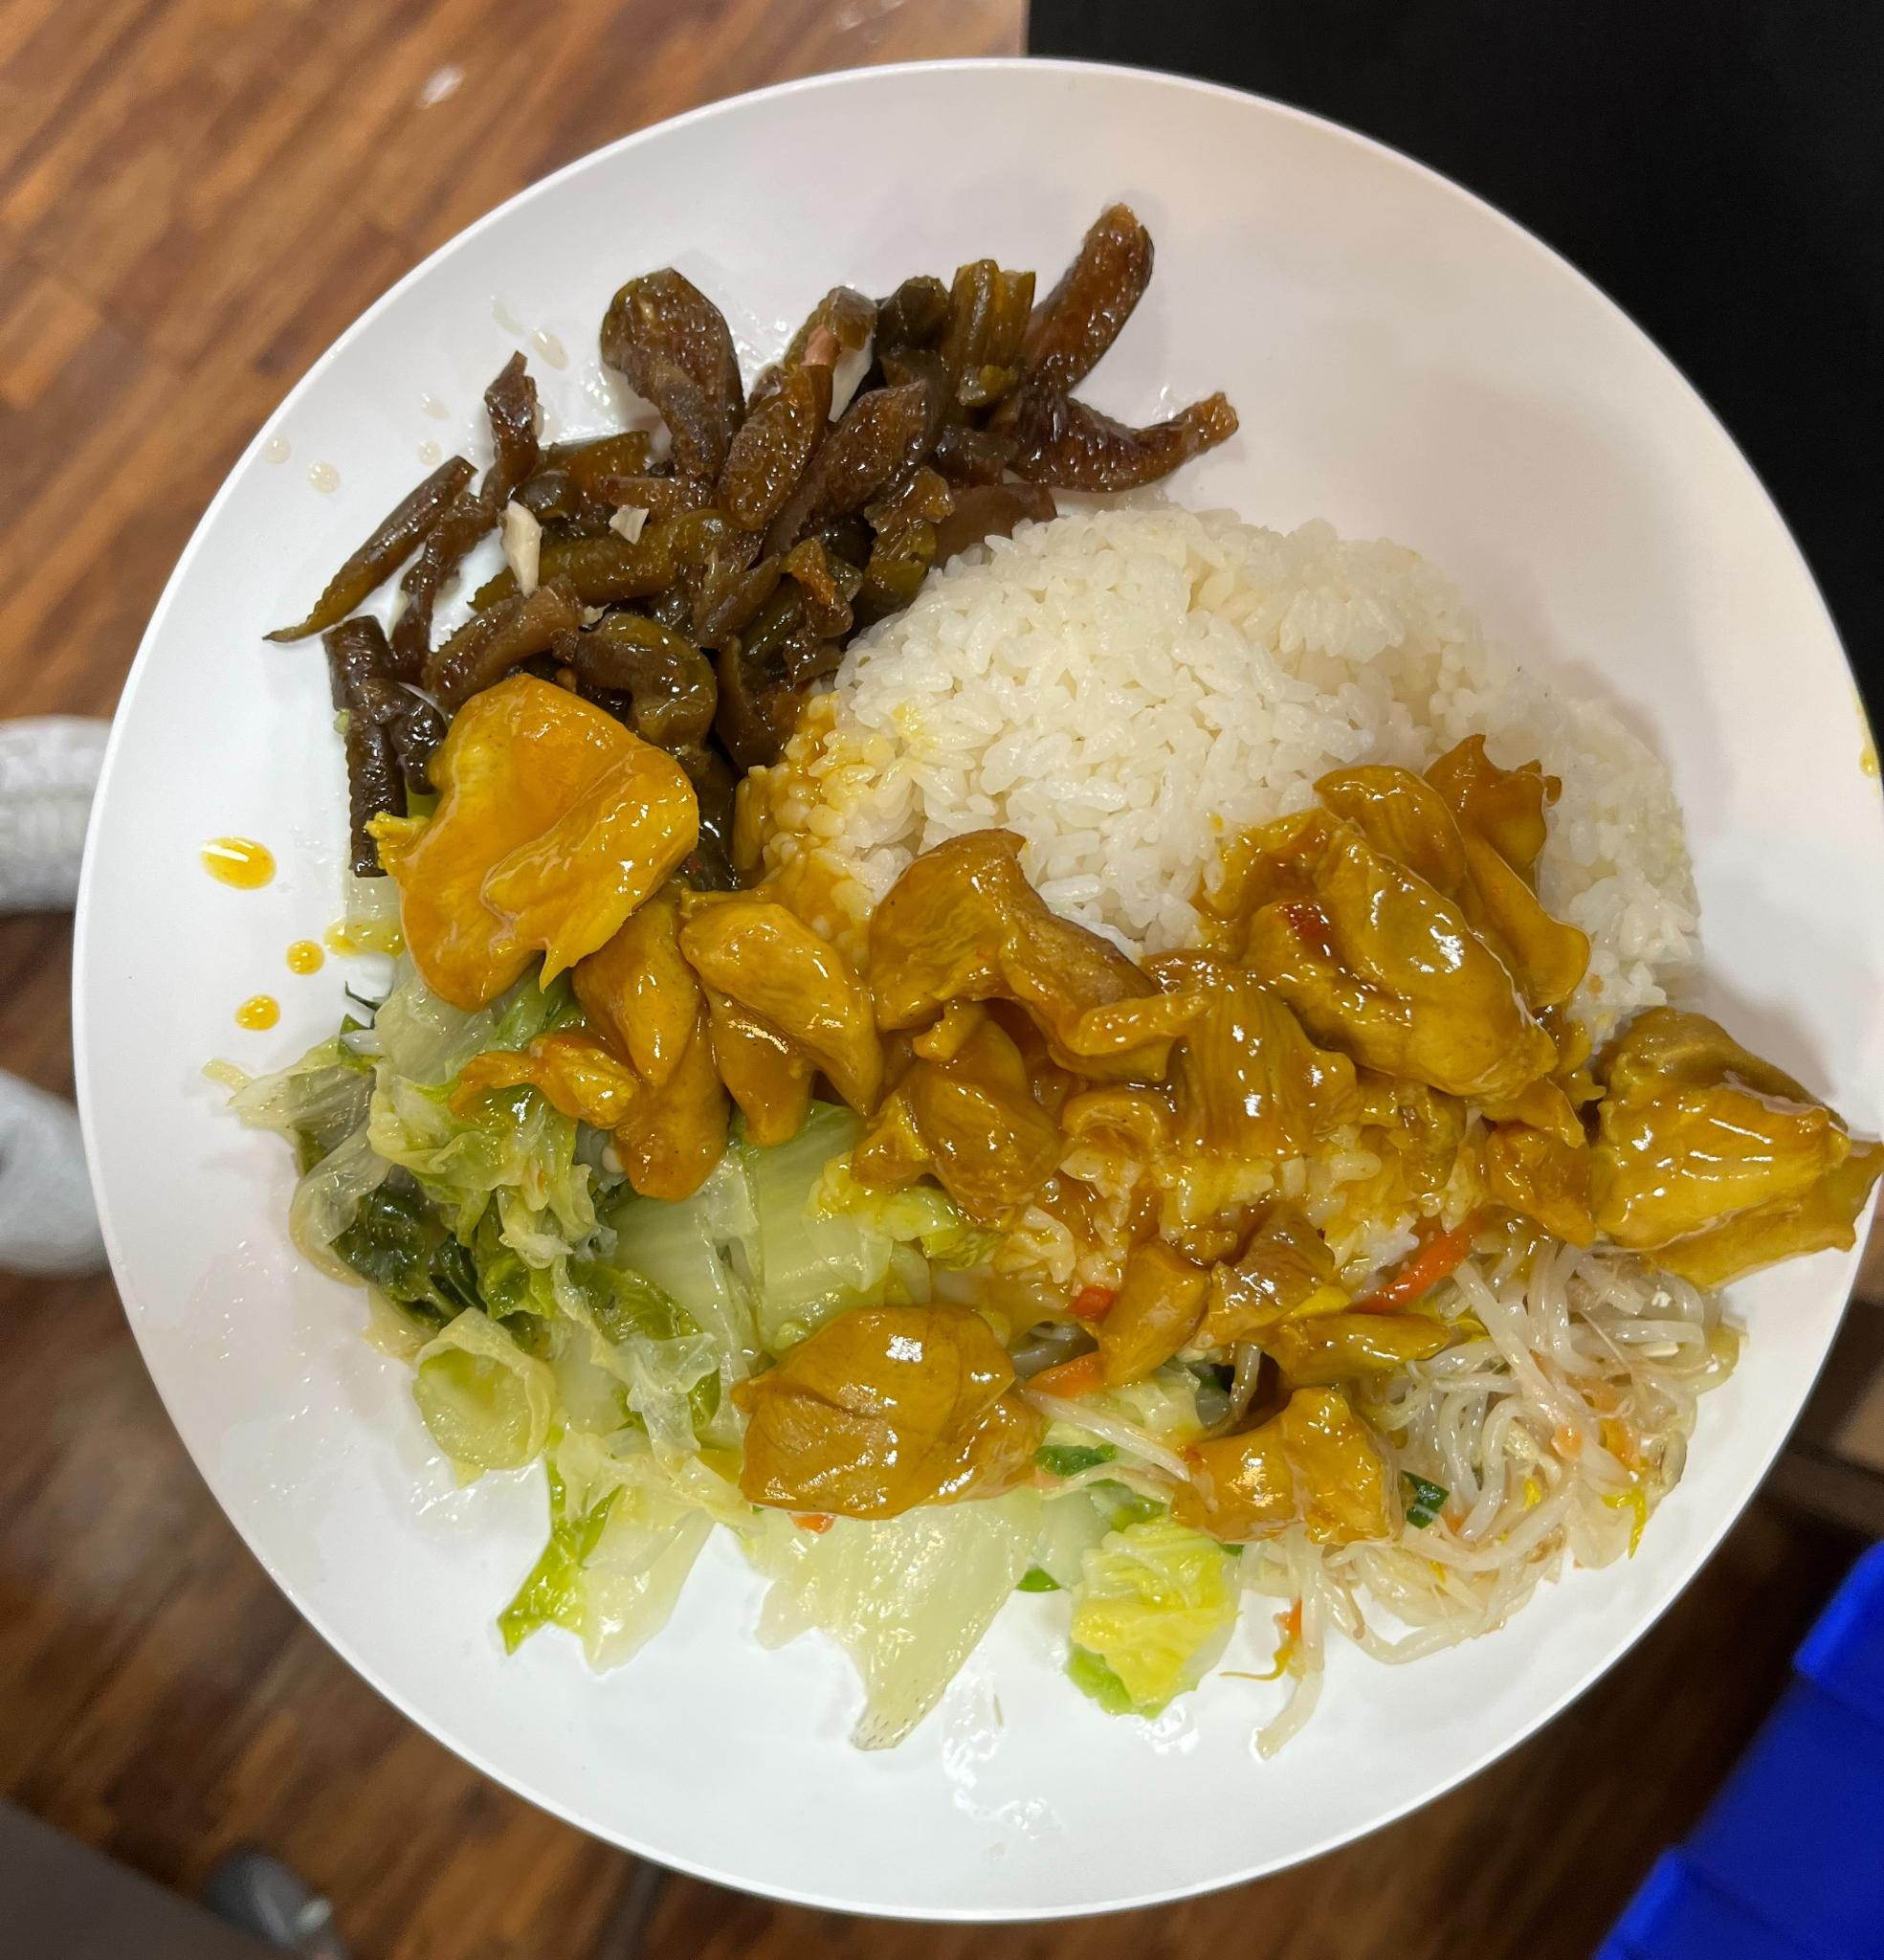big fried chicken leg: (63, 45, 1884, 1921)
big herbal chicken leg: (796, 499, 1711, 1050)
braised fish fillet: (238, 1031, 1279, 1703), (392, 194, 1179, 721), (1413, 1267, 1734, 1608)
braised pork: (388, 688, 1818, 1468)
